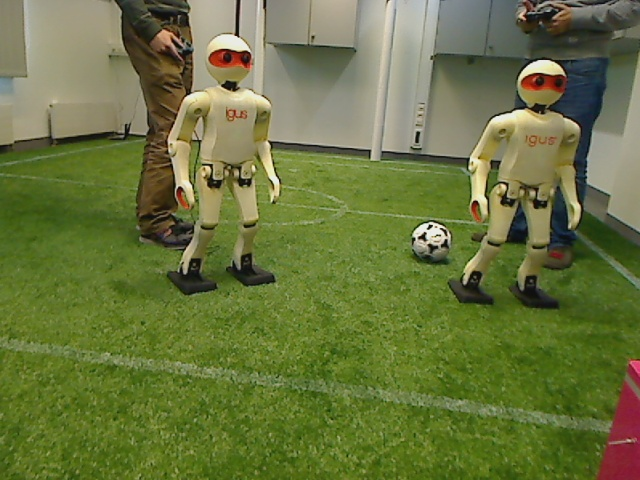ball: (407, 216, 458, 268)
robot: (459, 57, 584, 313), (166, 31, 286, 297)
